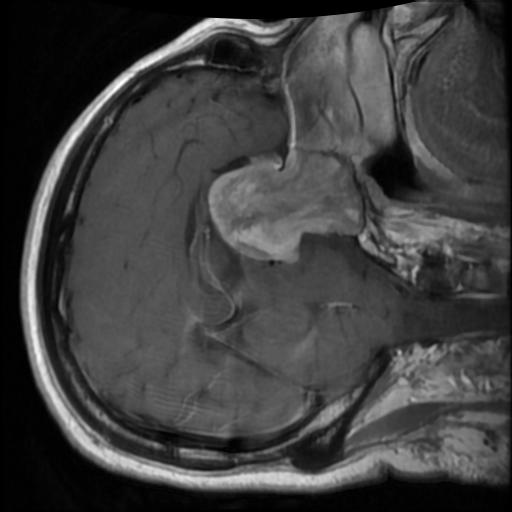pituitary tumour: (209, 149, 360, 265)
